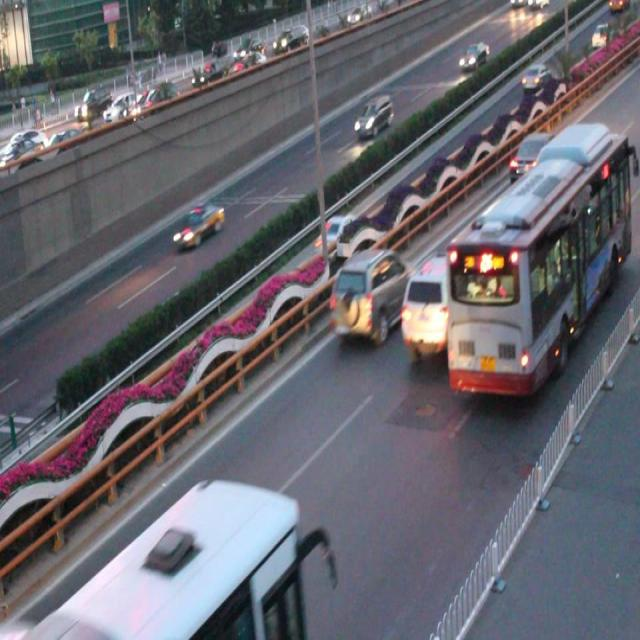car: (399, 247, 490, 365), (330, 251, 411, 342), (506, 130, 556, 185), (173, 200, 223, 250), (316, 212, 362, 258)
truck: (354, 95, 394, 140)
van: (446, 121, 631, 392), (29, 474, 325, 640)
